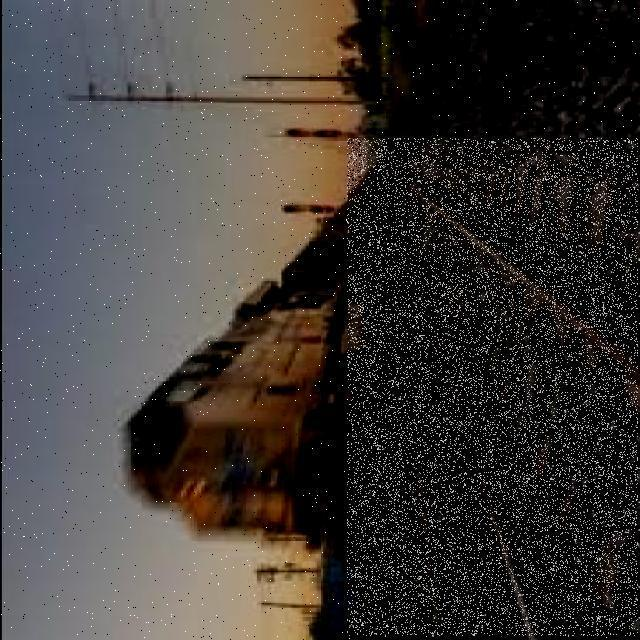rail: (348, 138, 638, 636)
